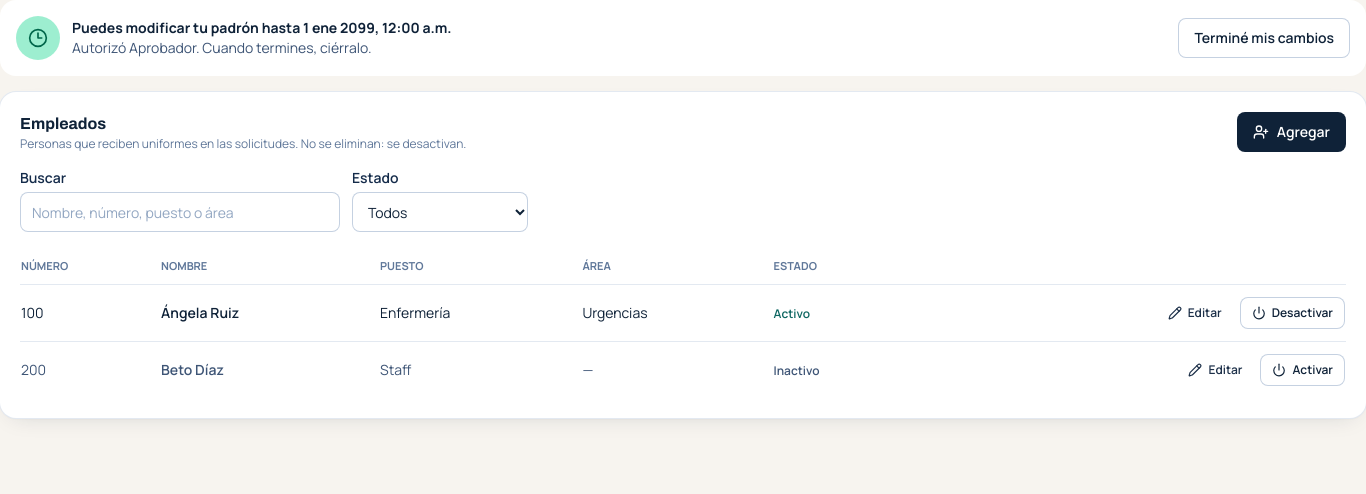
Scenario: empleados del portal › busca sin distinguir acentos ni mayúsculas, y filtra por estado
Expected: the table is shown, [20, 248, 1346, 398]
Type "angela" into the field labelled "Buscar" at (180, 212), box [20, 192, 340, 232]
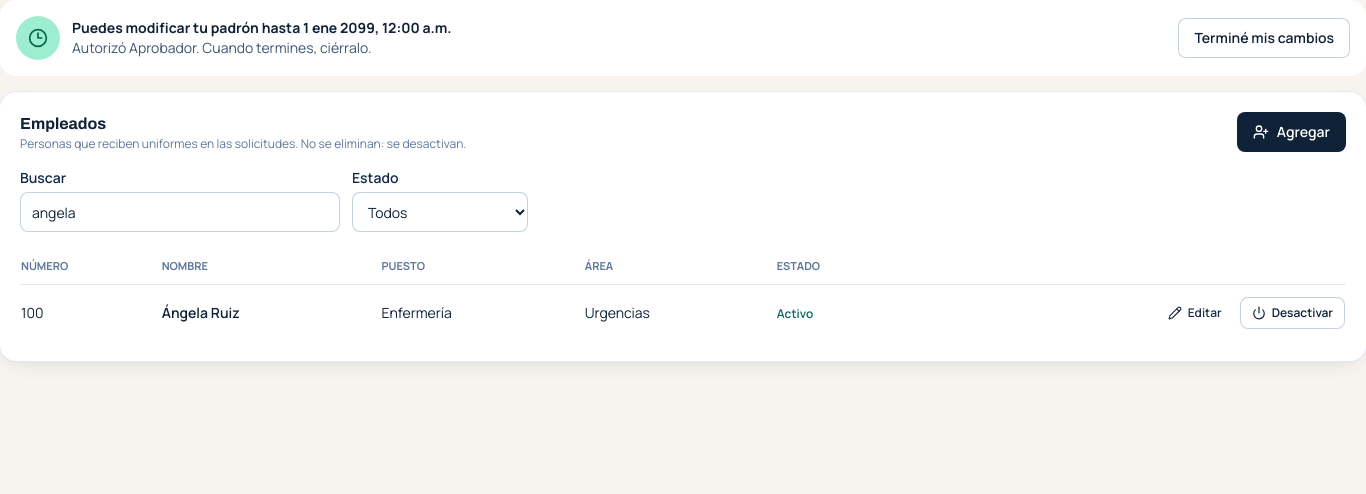
Expected: the text "Ángela Ruiz" is shown, [150, 285, 370, 341]
Now the text "Beto Díaz" is gone
Replace the text in the field labelled "Buscar" with "ÁNGELA" at (180, 212), box [20, 192, 340, 232]
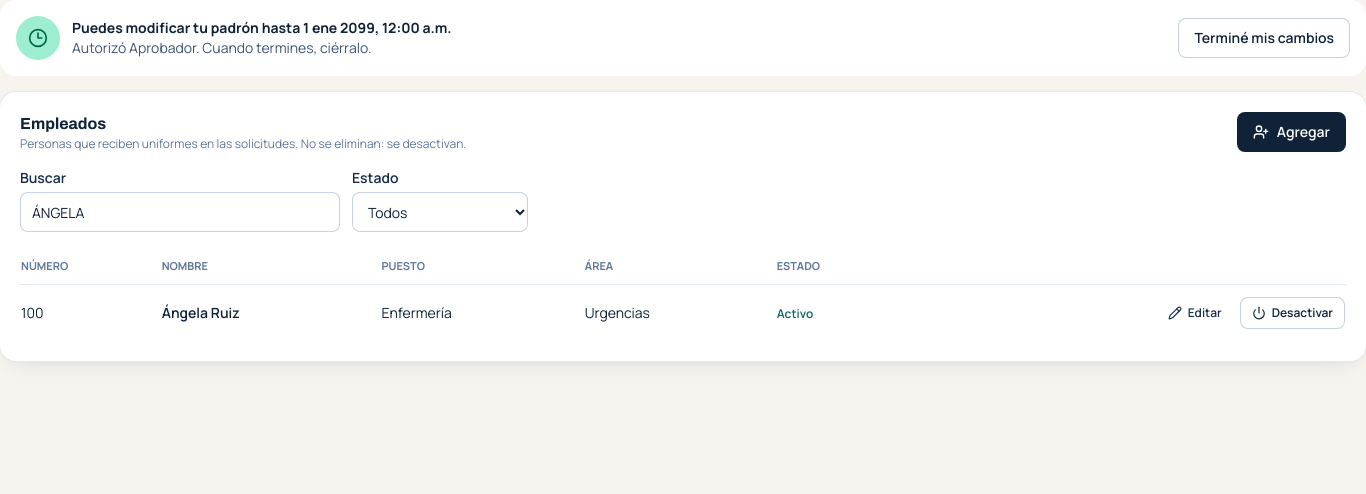
Expected: the text "Ángela Ruiz" is shown, [150, 285, 370, 341]
Clear the field labelled "Buscar" at (180, 212), box [20, 192, 340, 232]
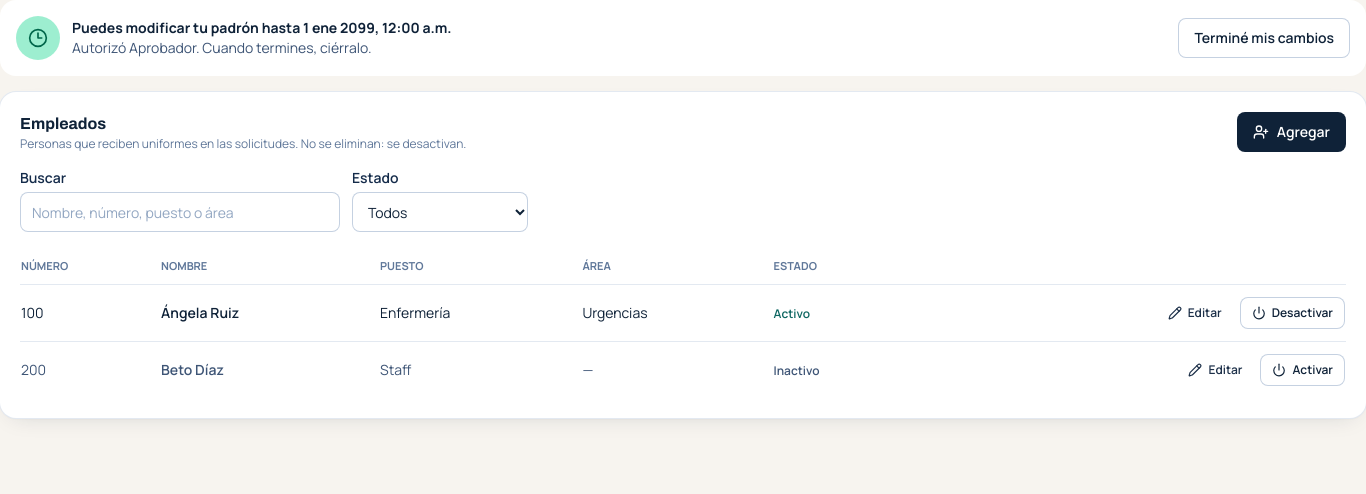
Select "Inactivos" in the dropdown labelled "Estado" at (440, 212), box [352, 192, 528, 232]
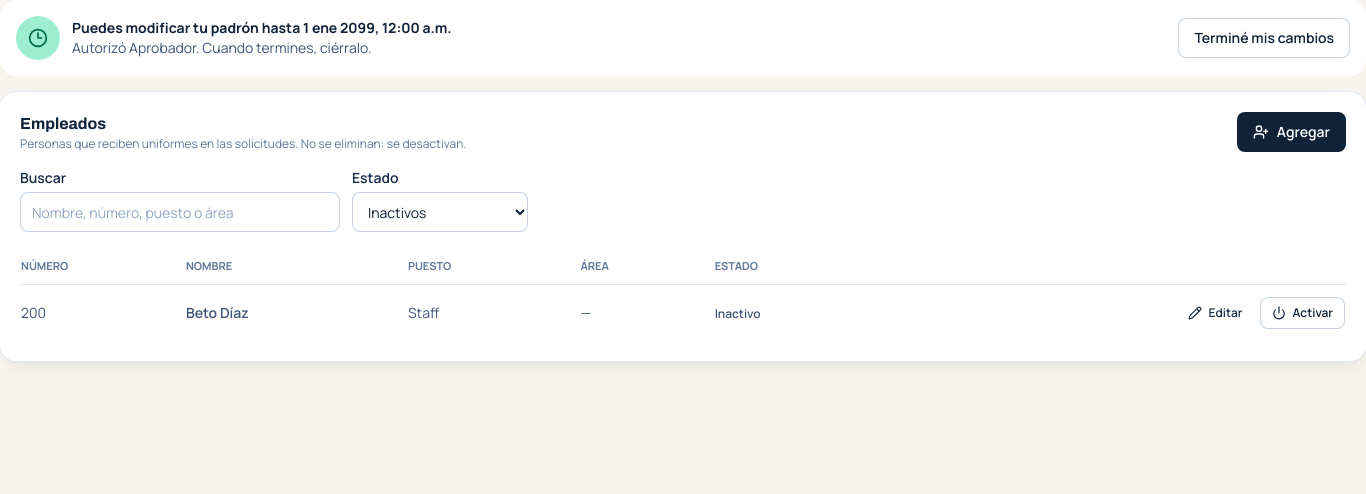
Now the text "Beto Díaz" is shown, box [174, 285, 396, 341]
Now the text "Ángela Ruiz" is gone
Type "zzz" into the field labelled "Buscar" at (180, 212), box [20, 192, 340, 232]
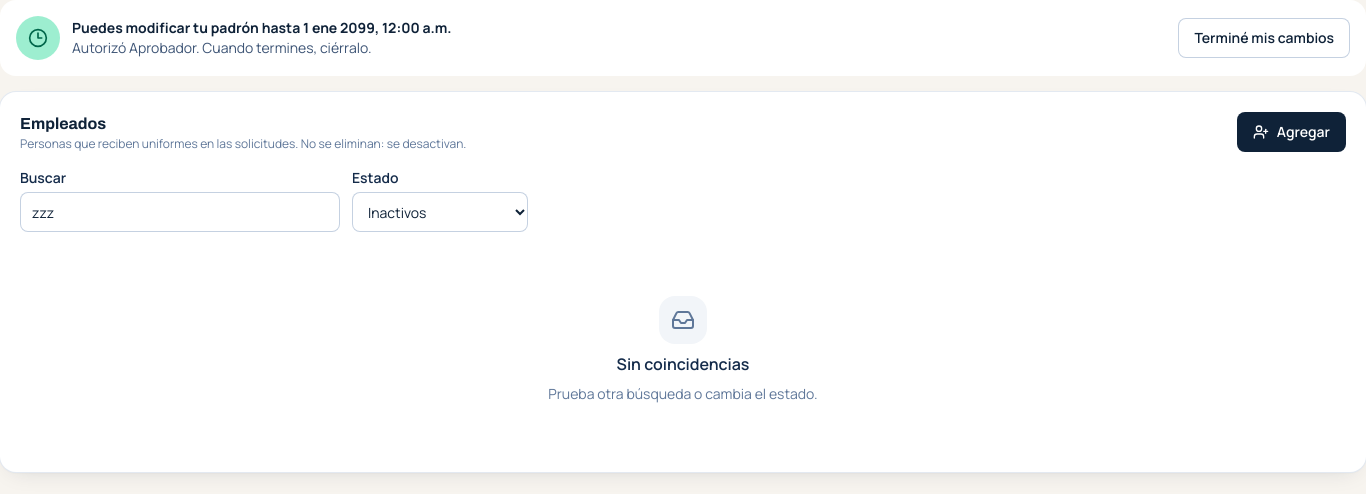
Now the text "Sin coincidencias" is shown, box [617, 352, 749, 376]
